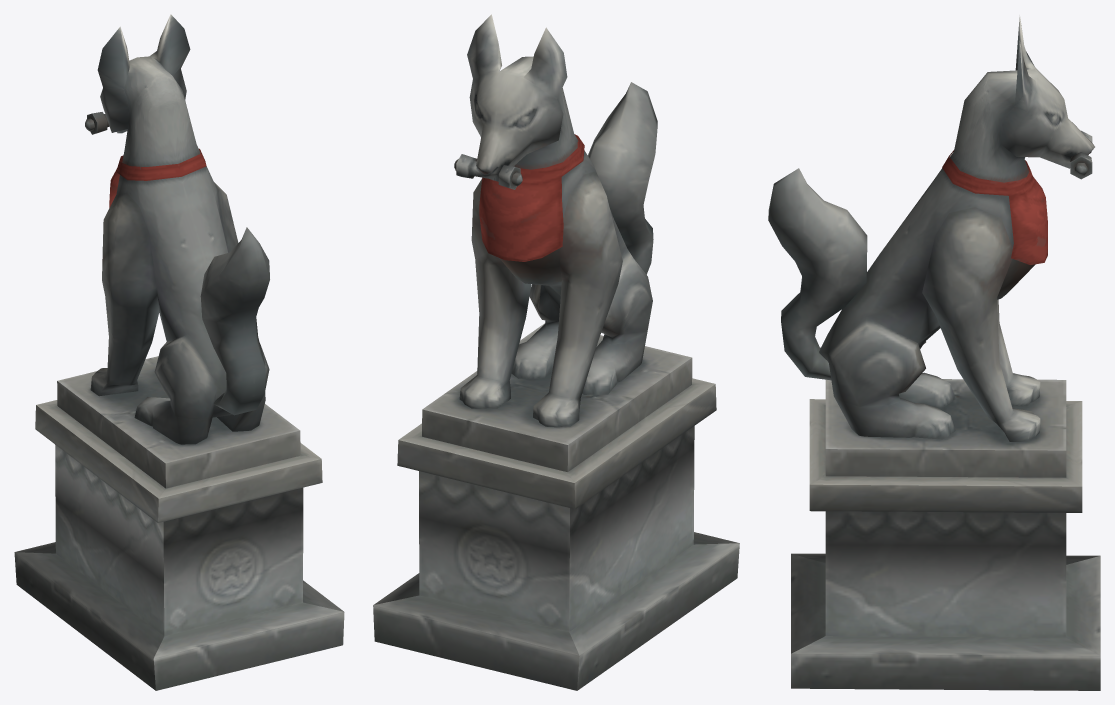
The model's file is shrine_jz002_02.FBX.
3 renders of one model, left to right at view 1: azimuth 30°, elevation 25°; view 2: azimuth 150°, elevation 25°; view 3: azimuth 270°, elevation 25°, orthographic. The views are drawn at different scales.
Parts seen in each view (by area): view 1: shrine_jz002_02; view 2: shrine_jz002_02; view 3: shrine_jz002_02.
Part boxes in pixels (x1=…): shrine_jz002_02: x1=14, y1=14, x2=344, y2=690; shrine_jz002_02: x1=373, y1=14, x2=739, y2=690; shrine_jz002_02: x1=768, y1=15, x2=1100, y2=690.
Size of the model in its own units: 81.18 by 226 by 111.
1 material, 1 textured.
